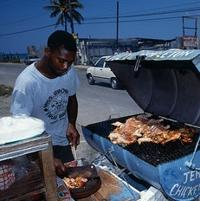person: (10, 30, 84, 178)
